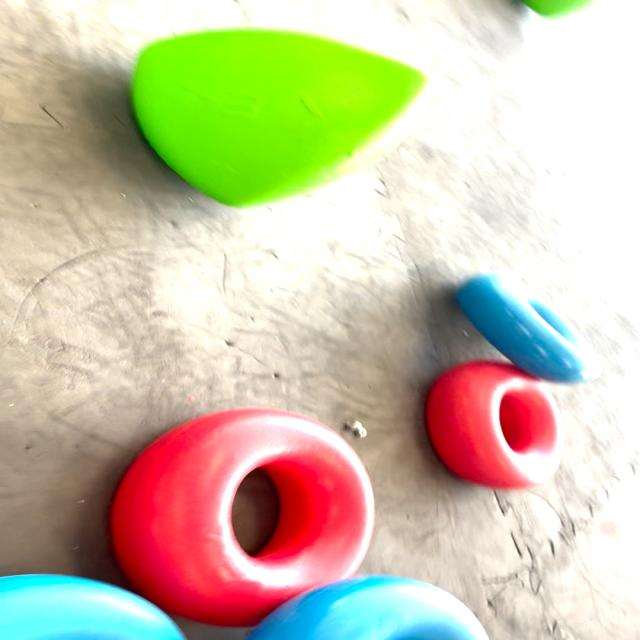Blue-Ring: (456, 274, 600, 384)
Red-Ring: (111, 408, 373, 626), (427, 361, 562, 489)
